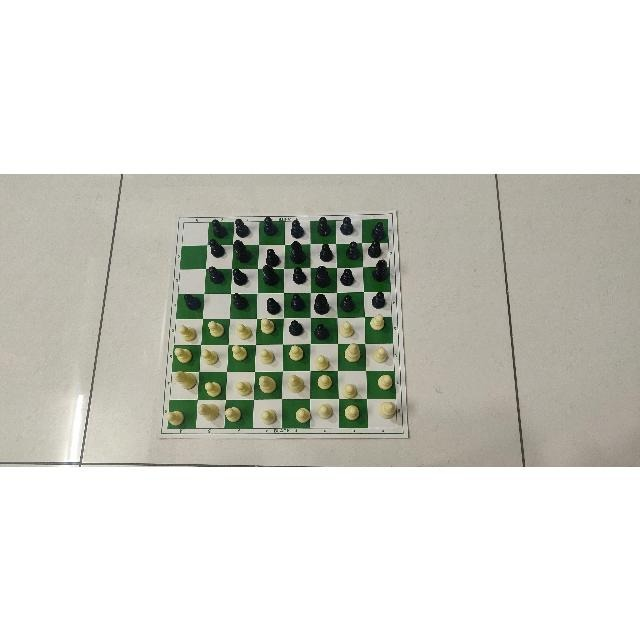black-bishop: (232, 238, 252, 262), (262, 263, 280, 285), (290, 240, 308, 262), (371, 258, 388, 280), (314, 263, 330, 286), (313, 293, 330, 313)
black-pawn: (230, 217, 256, 237), (312, 215, 334, 238), (367, 219, 389, 241), (259, 215, 279, 237), (338, 266, 358, 288), (315, 241, 335, 262), (286, 292, 307, 312), (312, 322, 333, 342), (285, 219, 305, 239), (364, 240, 386, 258), (211, 218, 229, 238), (208, 237, 226, 257), (369, 290, 387, 310), (340, 293, 358, 313), (285, 319, 305, 337), (342, 242, 361, 260), (207, 264, 224, 284), (339, 216, 356, 236), (232, 292, 250, 310), (263, 248, 281, 266), (290, 266, 308, 284), (183, 292, 202, 309), (232, 266, 249, 284), (266, 296, 282, 313)
white-bishop: (173, 369, 196, 388), (197, 402, 220, 420), (343, 341, 362, 362), (258, 375, 277, 393), (287, 373, 305, 392), (378, 401, 396, 419)
white-pawn: (341, 400, 363, 425), (163, 407, 190, 426), (205, 318, 227, 340), (256, 345, 278, 367), (198, 344, 219, 367), (292, 401, 312, 425), (175, 343, 197, 364), (338, 318, 358, 341), (257, 316, 279, 336), (368, 312, 388, 334), (314, 402, 336, 422), (229, 343, 250, 363), (374, 372, 394, 393), (259, 406, 280, 426), (176, 324, 198, 343), (311, 352, 331, 372), (371, 345, 391, 365), (339, 379, 360, 398), (223, 404, 244, 423), (287, 341, 304, 364), (235, 321, 254, 341), (203, 378, 223, 397), (236, 377, 252, 399), (317, 374, 333, 391)
